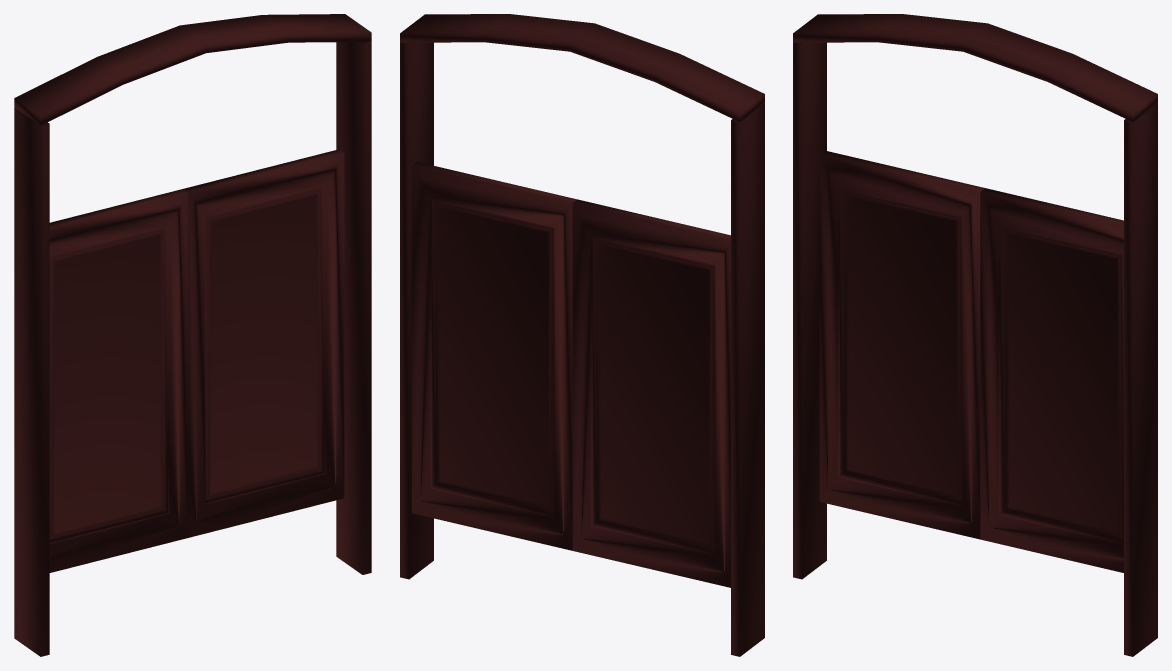
The model's file is Door swing con arco.obj.
3 views of the same model, side by side, from view 1: azimuth 30°, elevation 25°; view 2: azimuth 150°, elevation 25°; view 3: azimuth 330°, elevation 25° (orthographic).
Parts seen in each view (by area): view 1: PivotDoor001; view 2: PivotDoor001; view 3: PivotDoor001.
Part boxes in pixels (x1,y1,x2,y2): PivotDoor001: [14, 14, 371, 656]; PivotDoor001: [400, 14, 764, 656]; PivotDoor001: [793, 14, 1157, 656].
Size of the model in its own units: 75.03 by 122 by 11.2.
